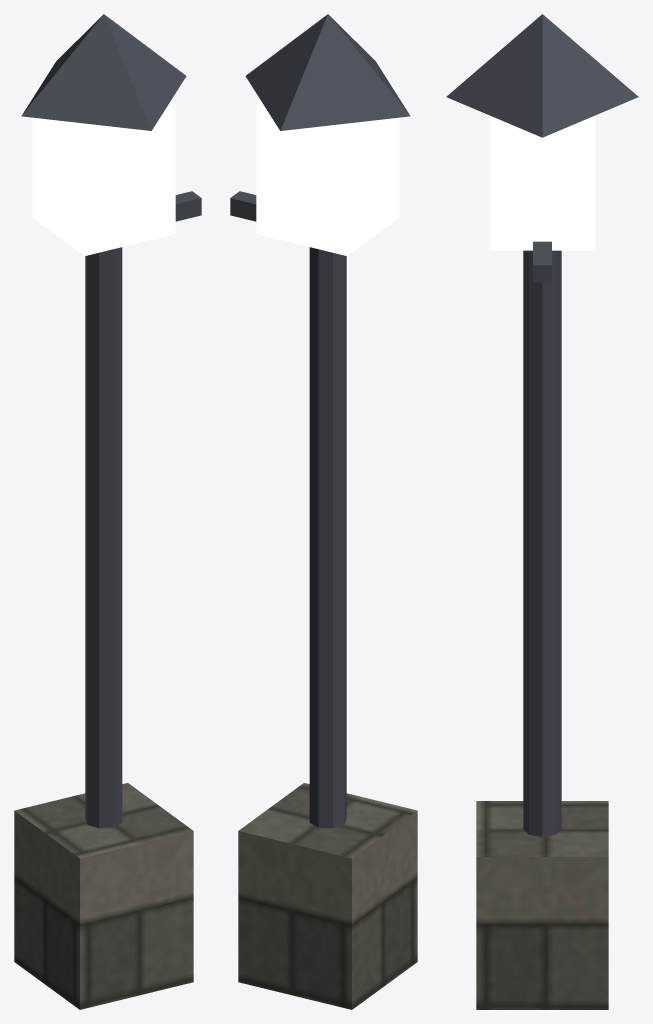
File: ENV_C_Streetlamp.fbx
3 views of the same model, side by side, from view 1: azimuth 30°, elevation 25°; view 2: azimuth 150°, elevation 25°; view 3: azimuth 270°, elevation 25° (orthographic).
Visible parts, largest first — view 1: ENV_C_Streetlamp; view 2: ENV_C_Streetlamp; view 3: ENV_C_Streetlamp.
Boxes of the visible parts, bbox=[...] form: ENV_C_Streetlamp: bbox=[14, 14, 201, 1009]; ENV_C_Streetlamp: bbox=[230, 14, 417, 1009]; ENV_C_Streetlamp: bbox=[446, 14, 638, 1009].
Bounding box in the file's own units: 85 × 443 × 80.
3 materials, 1 textured.
